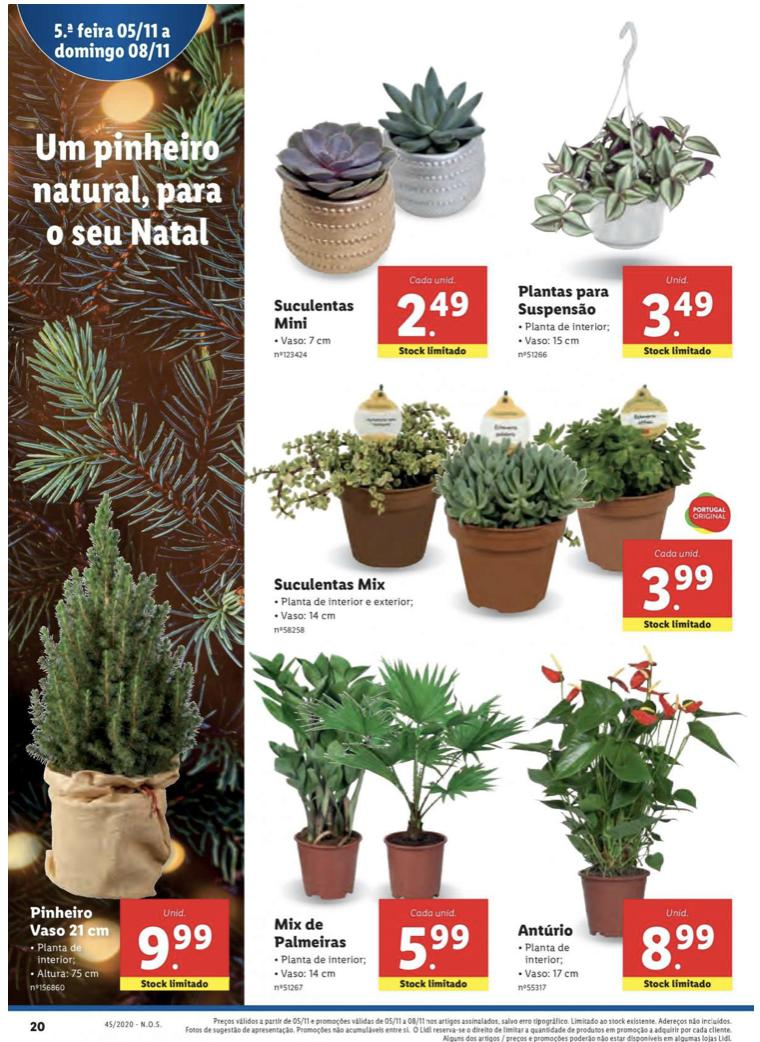name: (512, 277, 617, 321), (267, 290, 354, 334), (268, 571, 391, 601), (24, 903, 114, 939), (265, 913, 350, 951), (514, 924, 578, 943)
price: (130, 916, 221, 975), (387, 285, 483, 340), (636, 919, 723, 976), (636, 285, 715, 344), (635, 561, 718, 616), (396, 919, 477, 975)
product: (255, 376, 736, 639), (10, 499, 240, 999), (253, 651, 501, 999), (509, 657, 739, 999), (246, 58, 501, 362), (503, 67, 740, 362)
